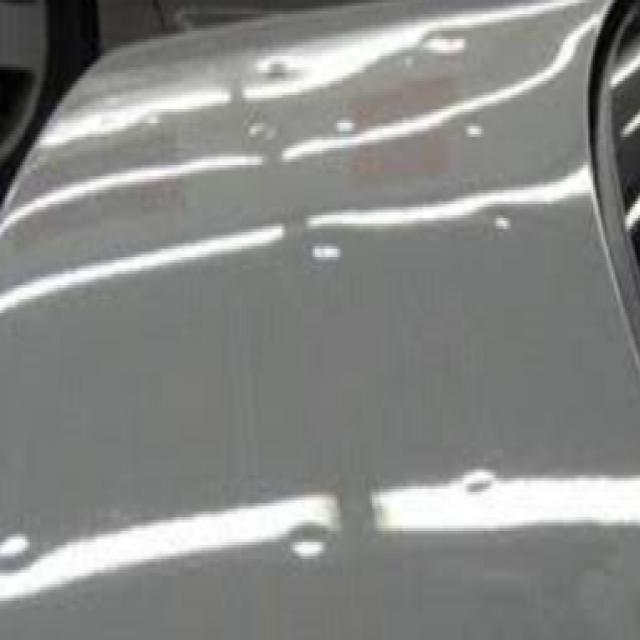dents: (0, 474, 42, 594), (288, 500, 332, 580), (258, 37, 301, 118), (248, 112, 288, 190), (458, 448, 499, 517)
